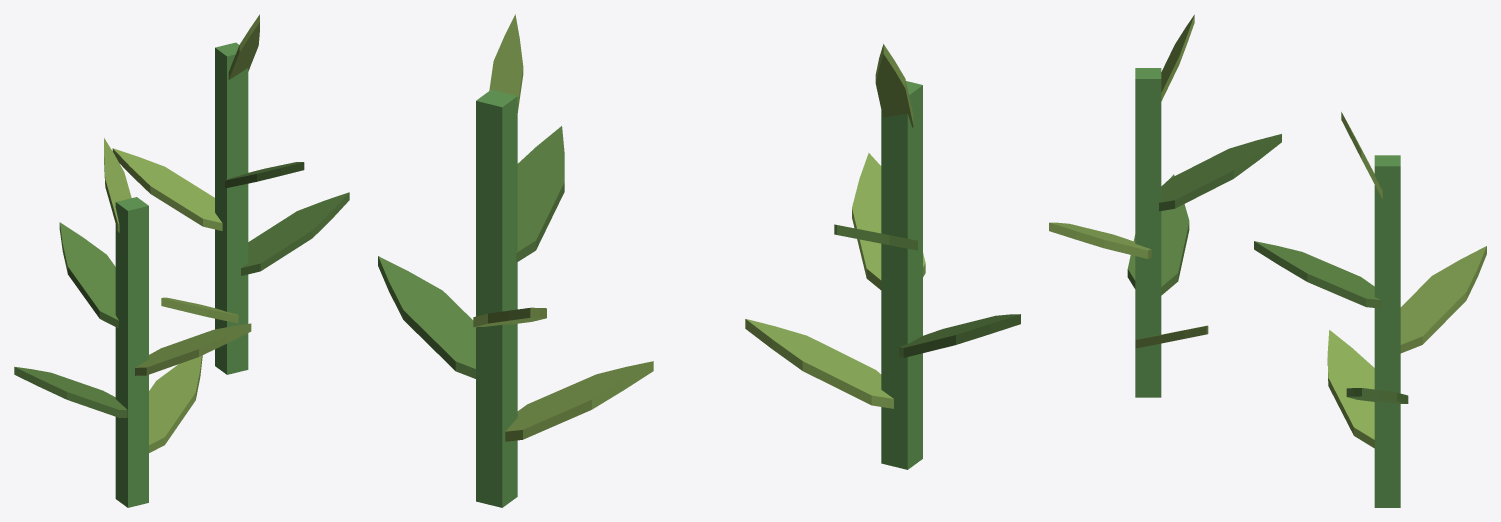
File: crop_corn_growing.glb
3 renders of one model, left to right at view 1: azimuth 30°, elevation 25°; view 2: azimuth 150°, elevation 25°; view 3: azimuth 270°, elevation 25°, orthographic. The views are drawn at different scales.
Parts seen in each view (by area): view 1: body__green2.003, body__leaf2.004, body__leaf.002; view 2: body__green2.003, body__leaf2.004, body__leaf.002; view 3: body__green2.003, body__leaf2.004, body__leaf.002.
Boxes of the visible parts, x1,y1,x2,y2 form: body__green2.003: (115, 42, 248, 507); body__leaf2.004: (104, 14, 259, 452); body__leaf.002: (14, 162, 349, 417); body__green2.003: (476, 81, 922, 507); body__leaf2.004: (473, 14, 925, 441); body__leaf.002: (378, 126, 1020, 378); body__green2.003: (1135, 68, 1400, 507); body__leaf2.004: (1049, 14, 1486, 448); body__leaf.002: (1127, 134, 1408, 403).
Size of the model in its own units: 0.7232 by 0.6011 by 0.6038.
